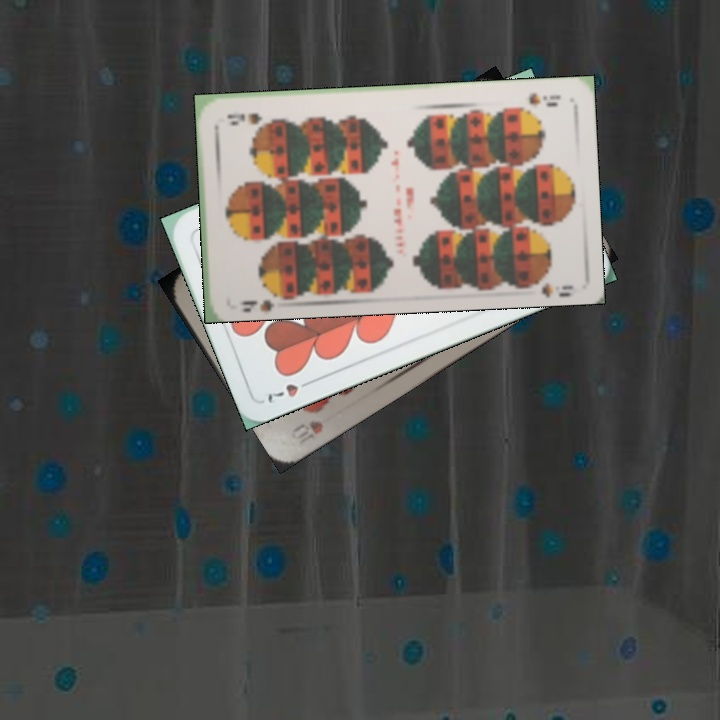H10: (286, 416, 326, 445)
H7: (263, 375, 317, 406)
S9: (235, 284, 288, 312), (525, 89, 563, 110)
